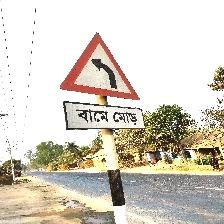Left-Turn: (59, 32, 143, 132)
